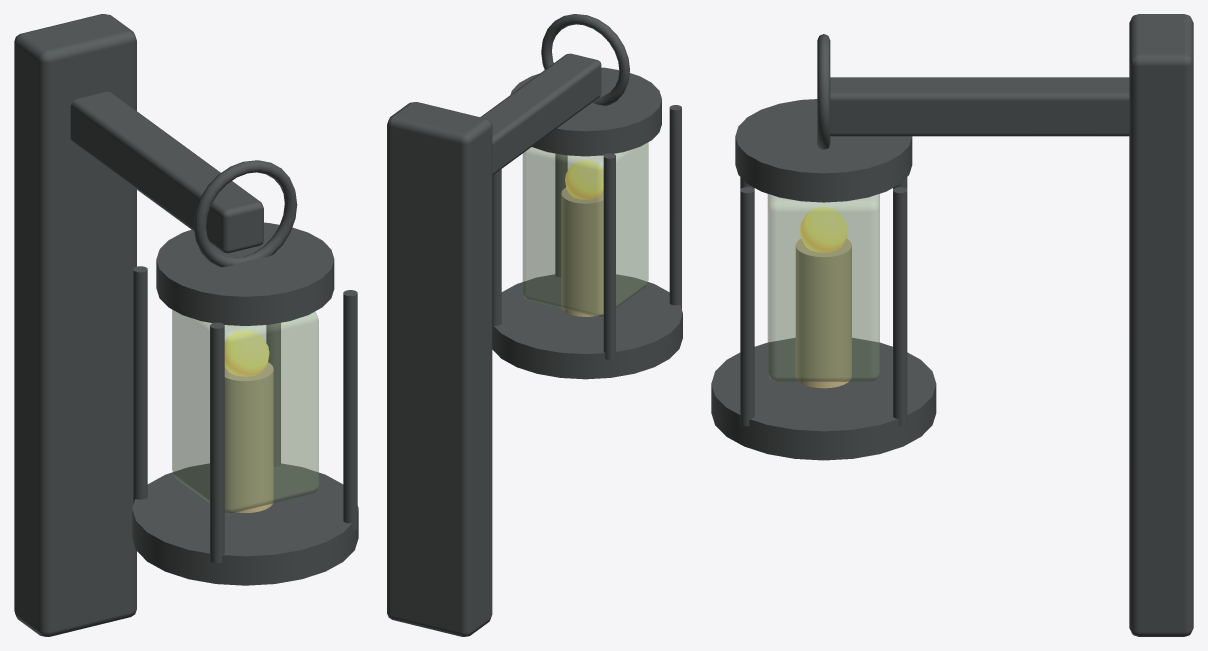
The model's file is adventurers-tavern-and-guild-hall-wall-lantern-bracket-62687770__24680.glb.
The picture shows the model from 3 angles, left to right: view 1: azimuth 30°, elevation 25°; view 2: azimuth 150°, elevation 25°; view 3: azimuth 270°, elevation 25°; orthographic projection. The views are drawn at different scales.
Visible parts, largest first — view 1: wall-lantern-bracket; view 2: wall-lantern-bracket; view 3: wall-lantern-bracket.
Boxes of the visible parts, left/top/right/bottom form: wall-lantern-bracket: left=14, top=14, right=358, bottom=636; wall-lantern-bracket: left=387, top=14, right=682, bottom=636; wall-lantern-bracket: left=711, top=14, right=1193, bottom=636.
Size of the model in its own units: 0.28 by 0.8 by 0.6.
